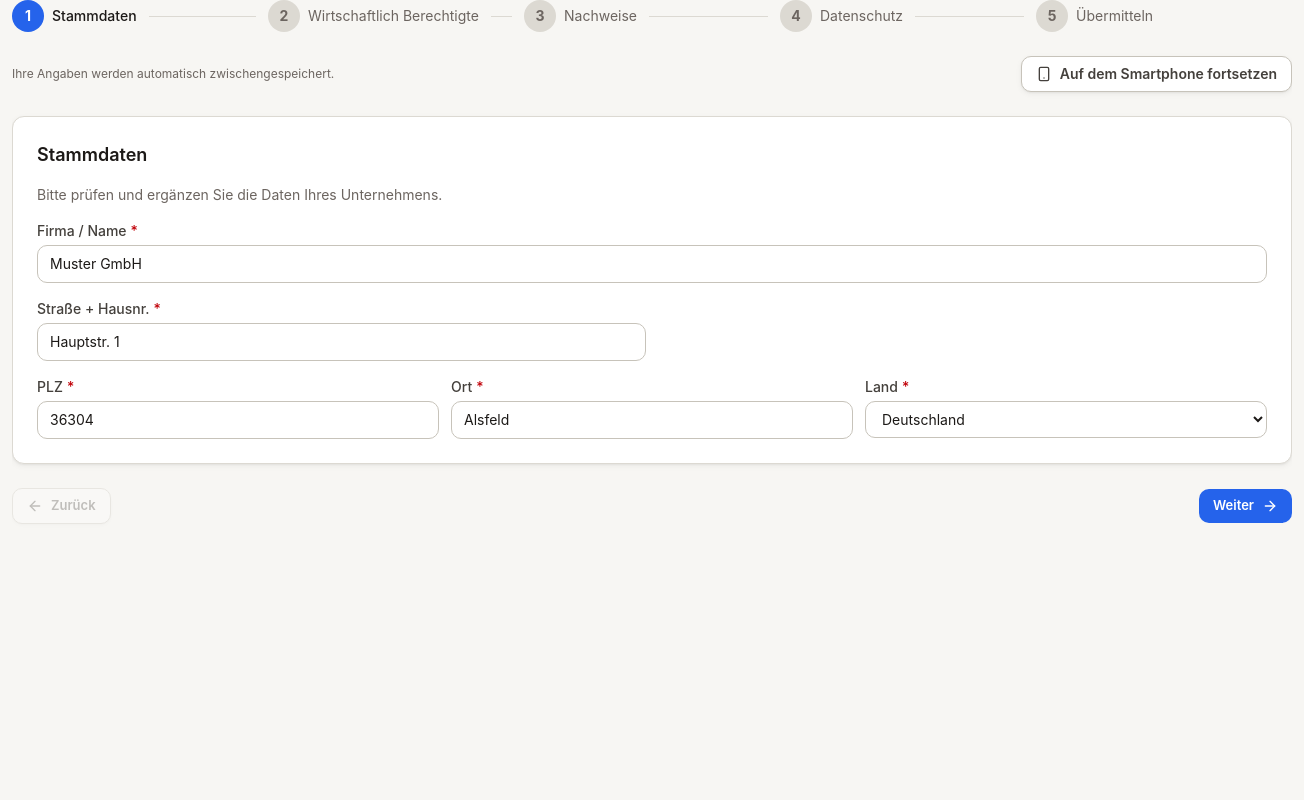
Test: GwG-Onboarding – explizite Doppelrollen-UX › startet neutral mit ausdrücklicher Auswahl zwischen eigener Person und Doppelrolle
Click the button "Weiter" at (1246, 506), box [1199,489,1292,522]
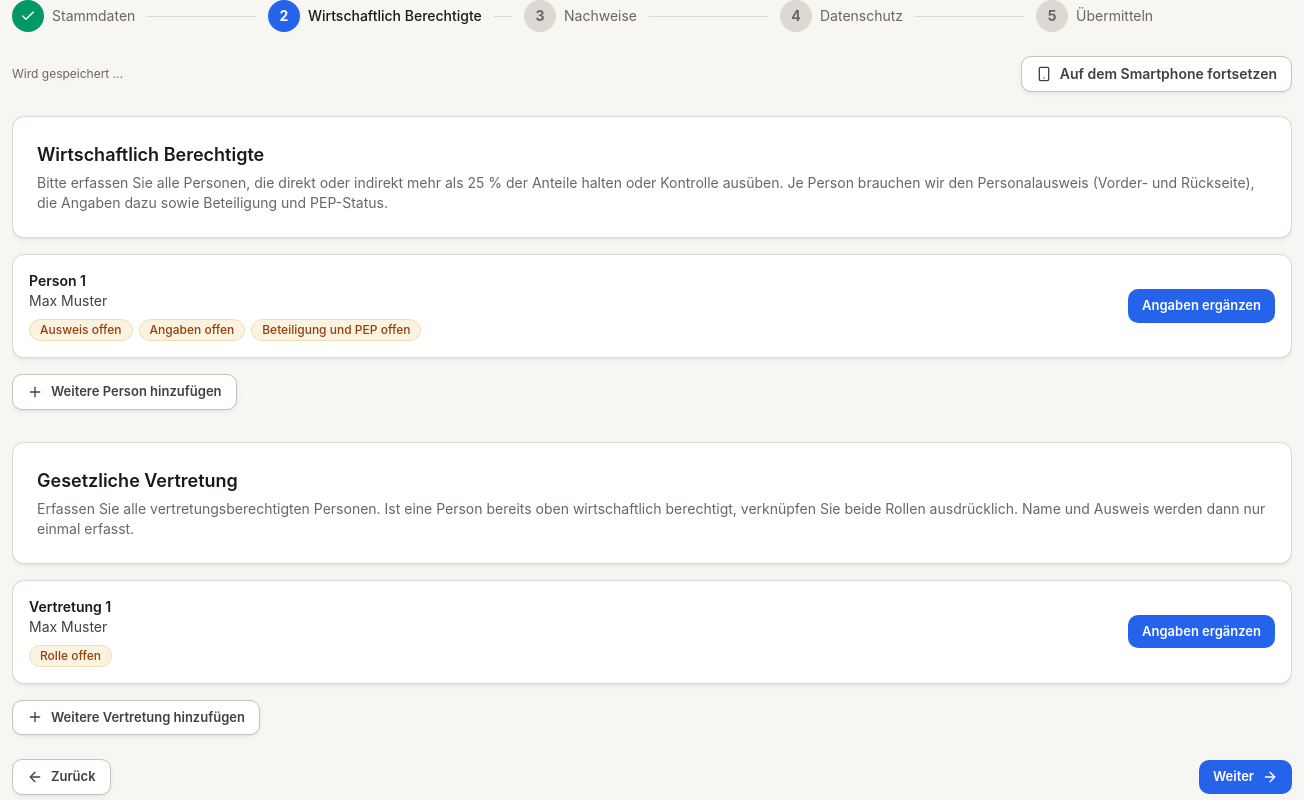
Click the 2nd button "Angaben ergänzen" at (1202, 632), box [1128,615,1275,648]
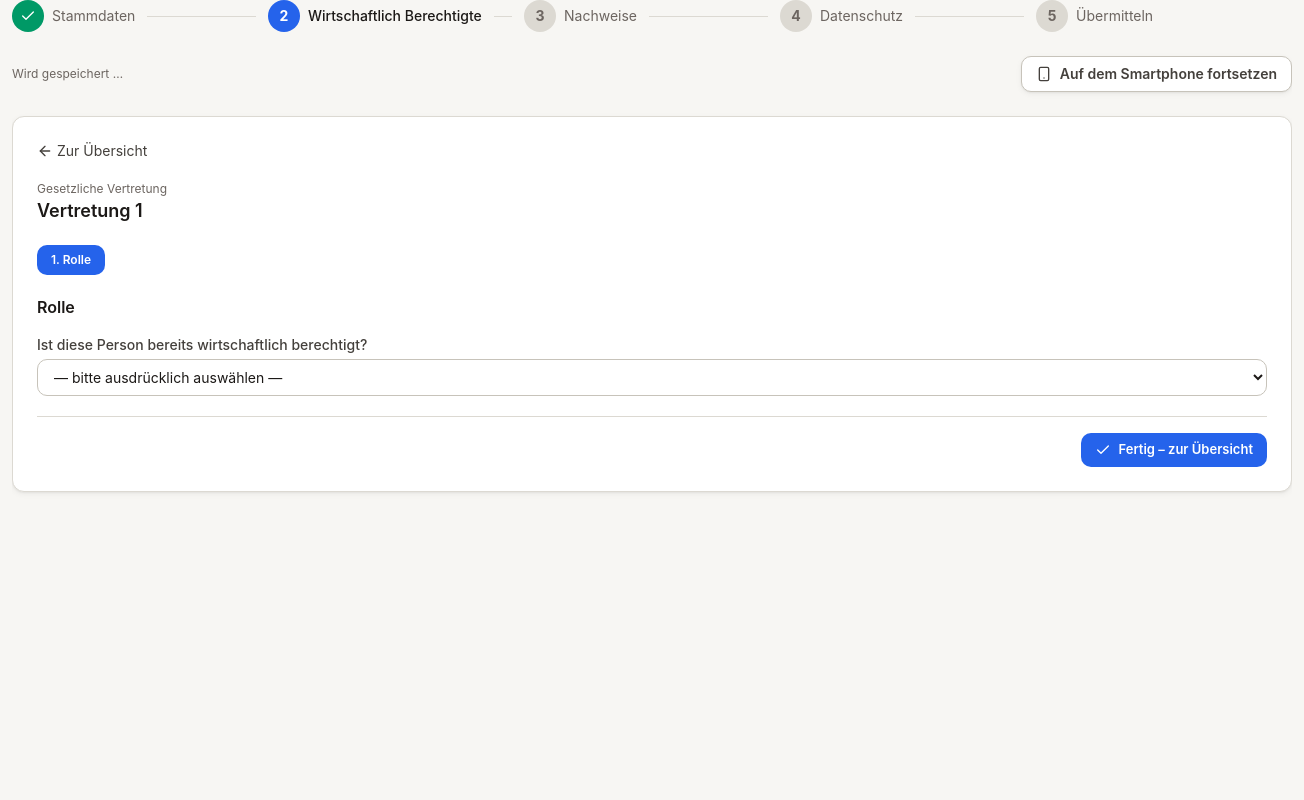
Check: the dropdown labelled "Ist diese Person bereits wirtschaftlich berechtigt?" shows "— bitte ausdrücklich auswählen —", box [37,359,1267,396]
